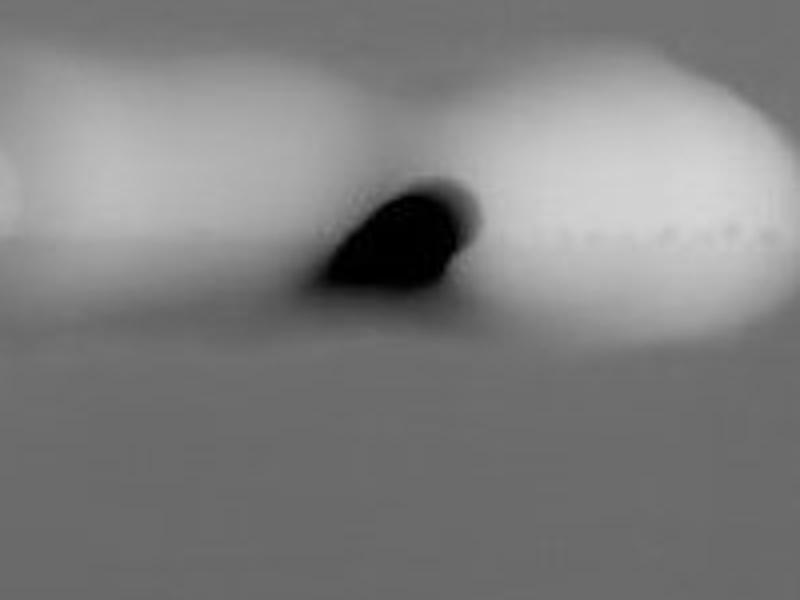defect: (311, 189, 469, 294)
